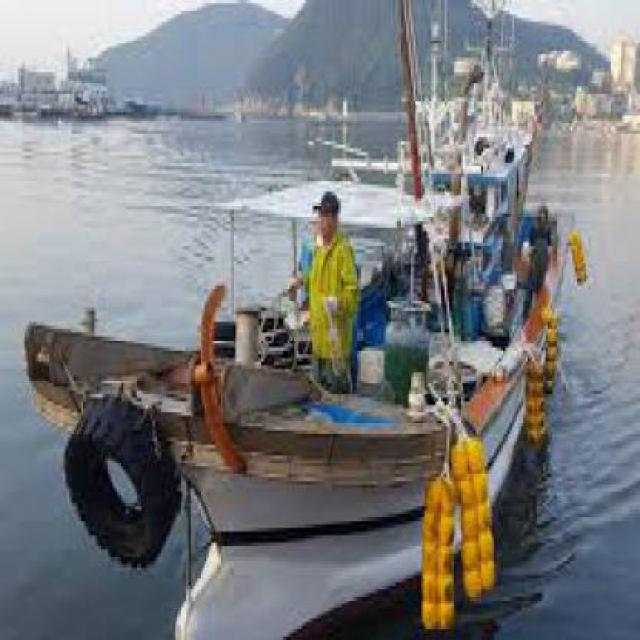fish-b: (8, 55, 603, 638)
